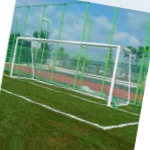goals: (8, 34, 134, 107)
